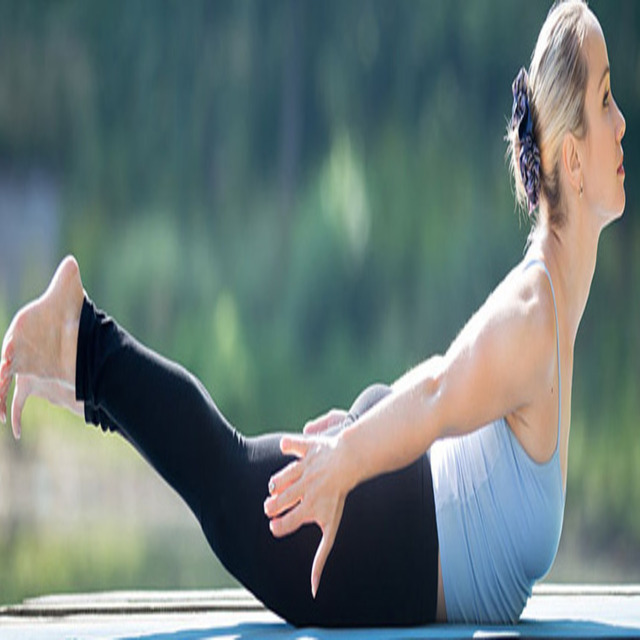Locust_Pose: (1, 7, 637, 628)
